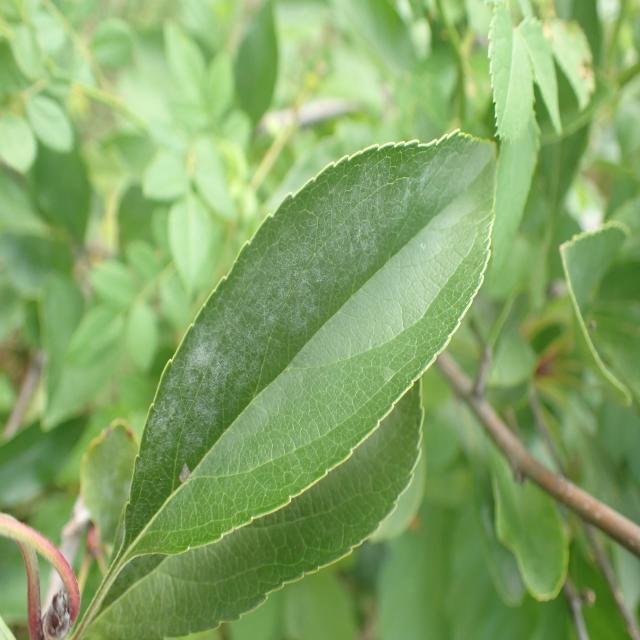Powdery_mildew: (97, 116, 520, 465)
